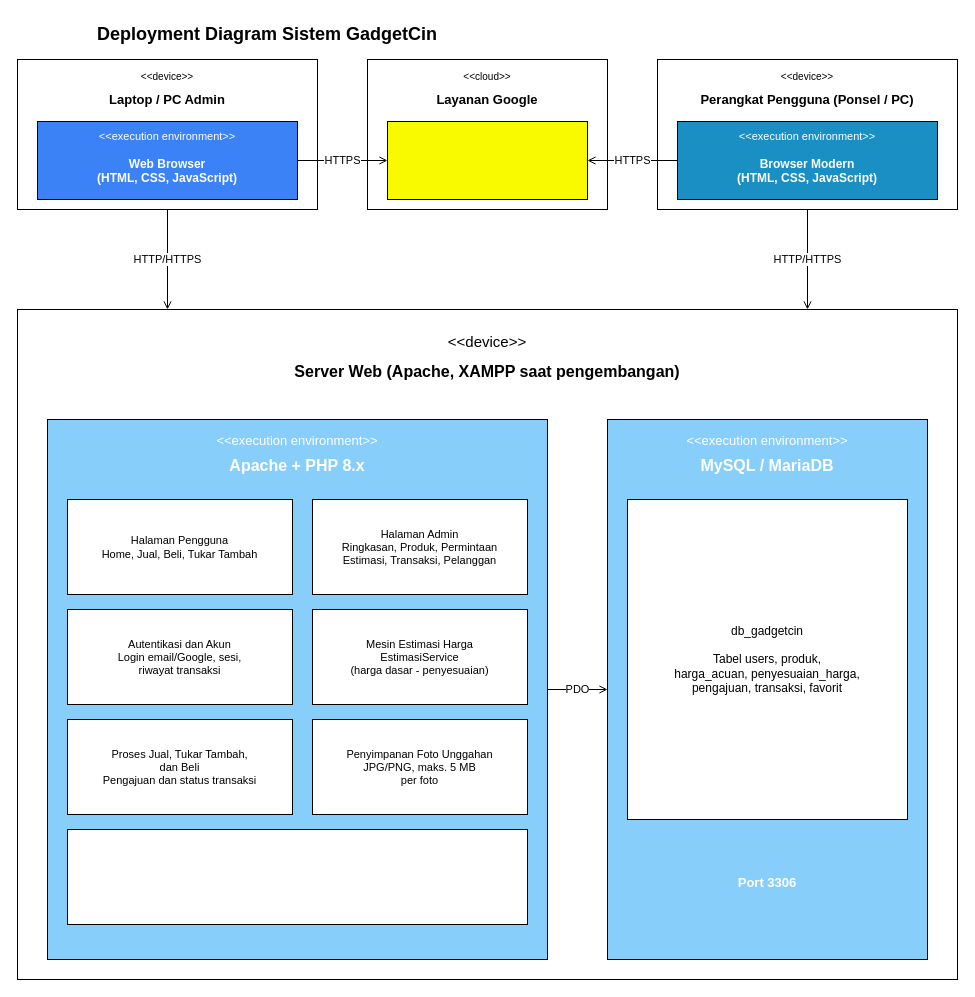
Image size: 975x997. Some labels were removed from this diagram. The shapes that lost their labels are listed below. From the top down, each one's centre as x and y in pixels, then its label:
(x=487, y=160): Autentikasi Google (OAuth) "Lanjutkan dengan Google"
(x=297, y=876): Konfigurasi dan aset aplikasi
